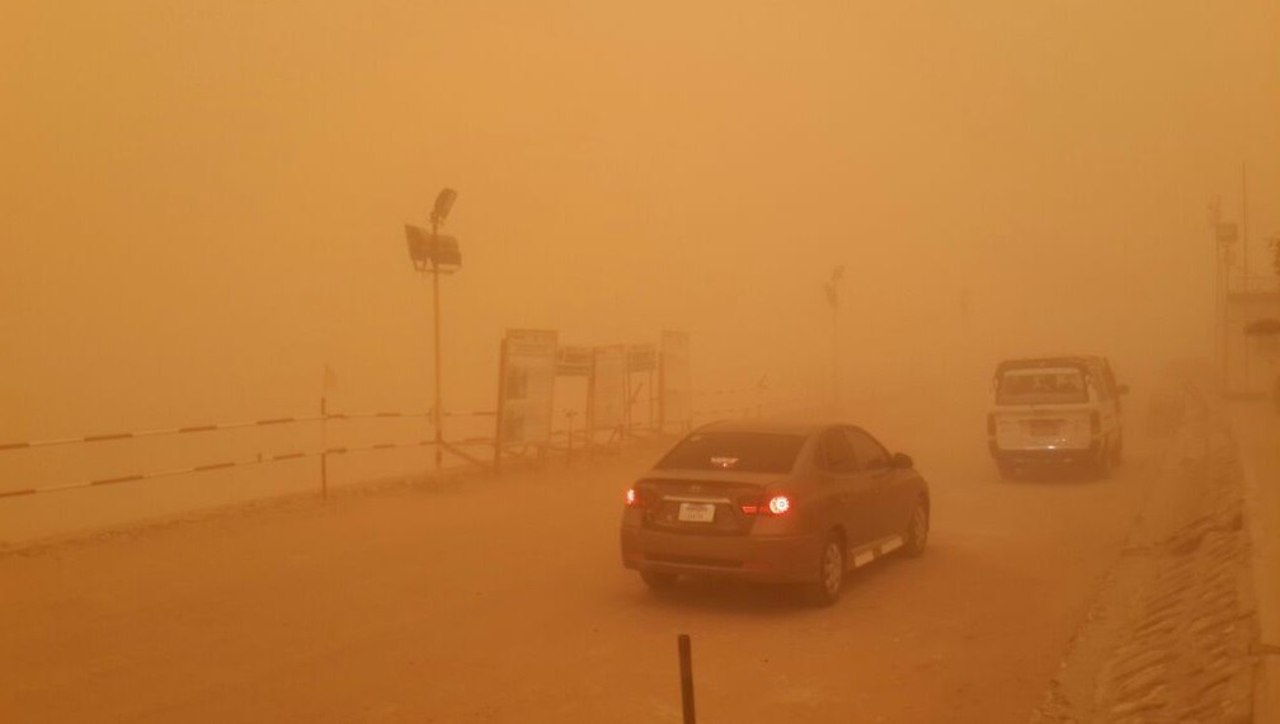bus: (986, 357, 1127, 482)
car: (615, 420, 927, 604)
